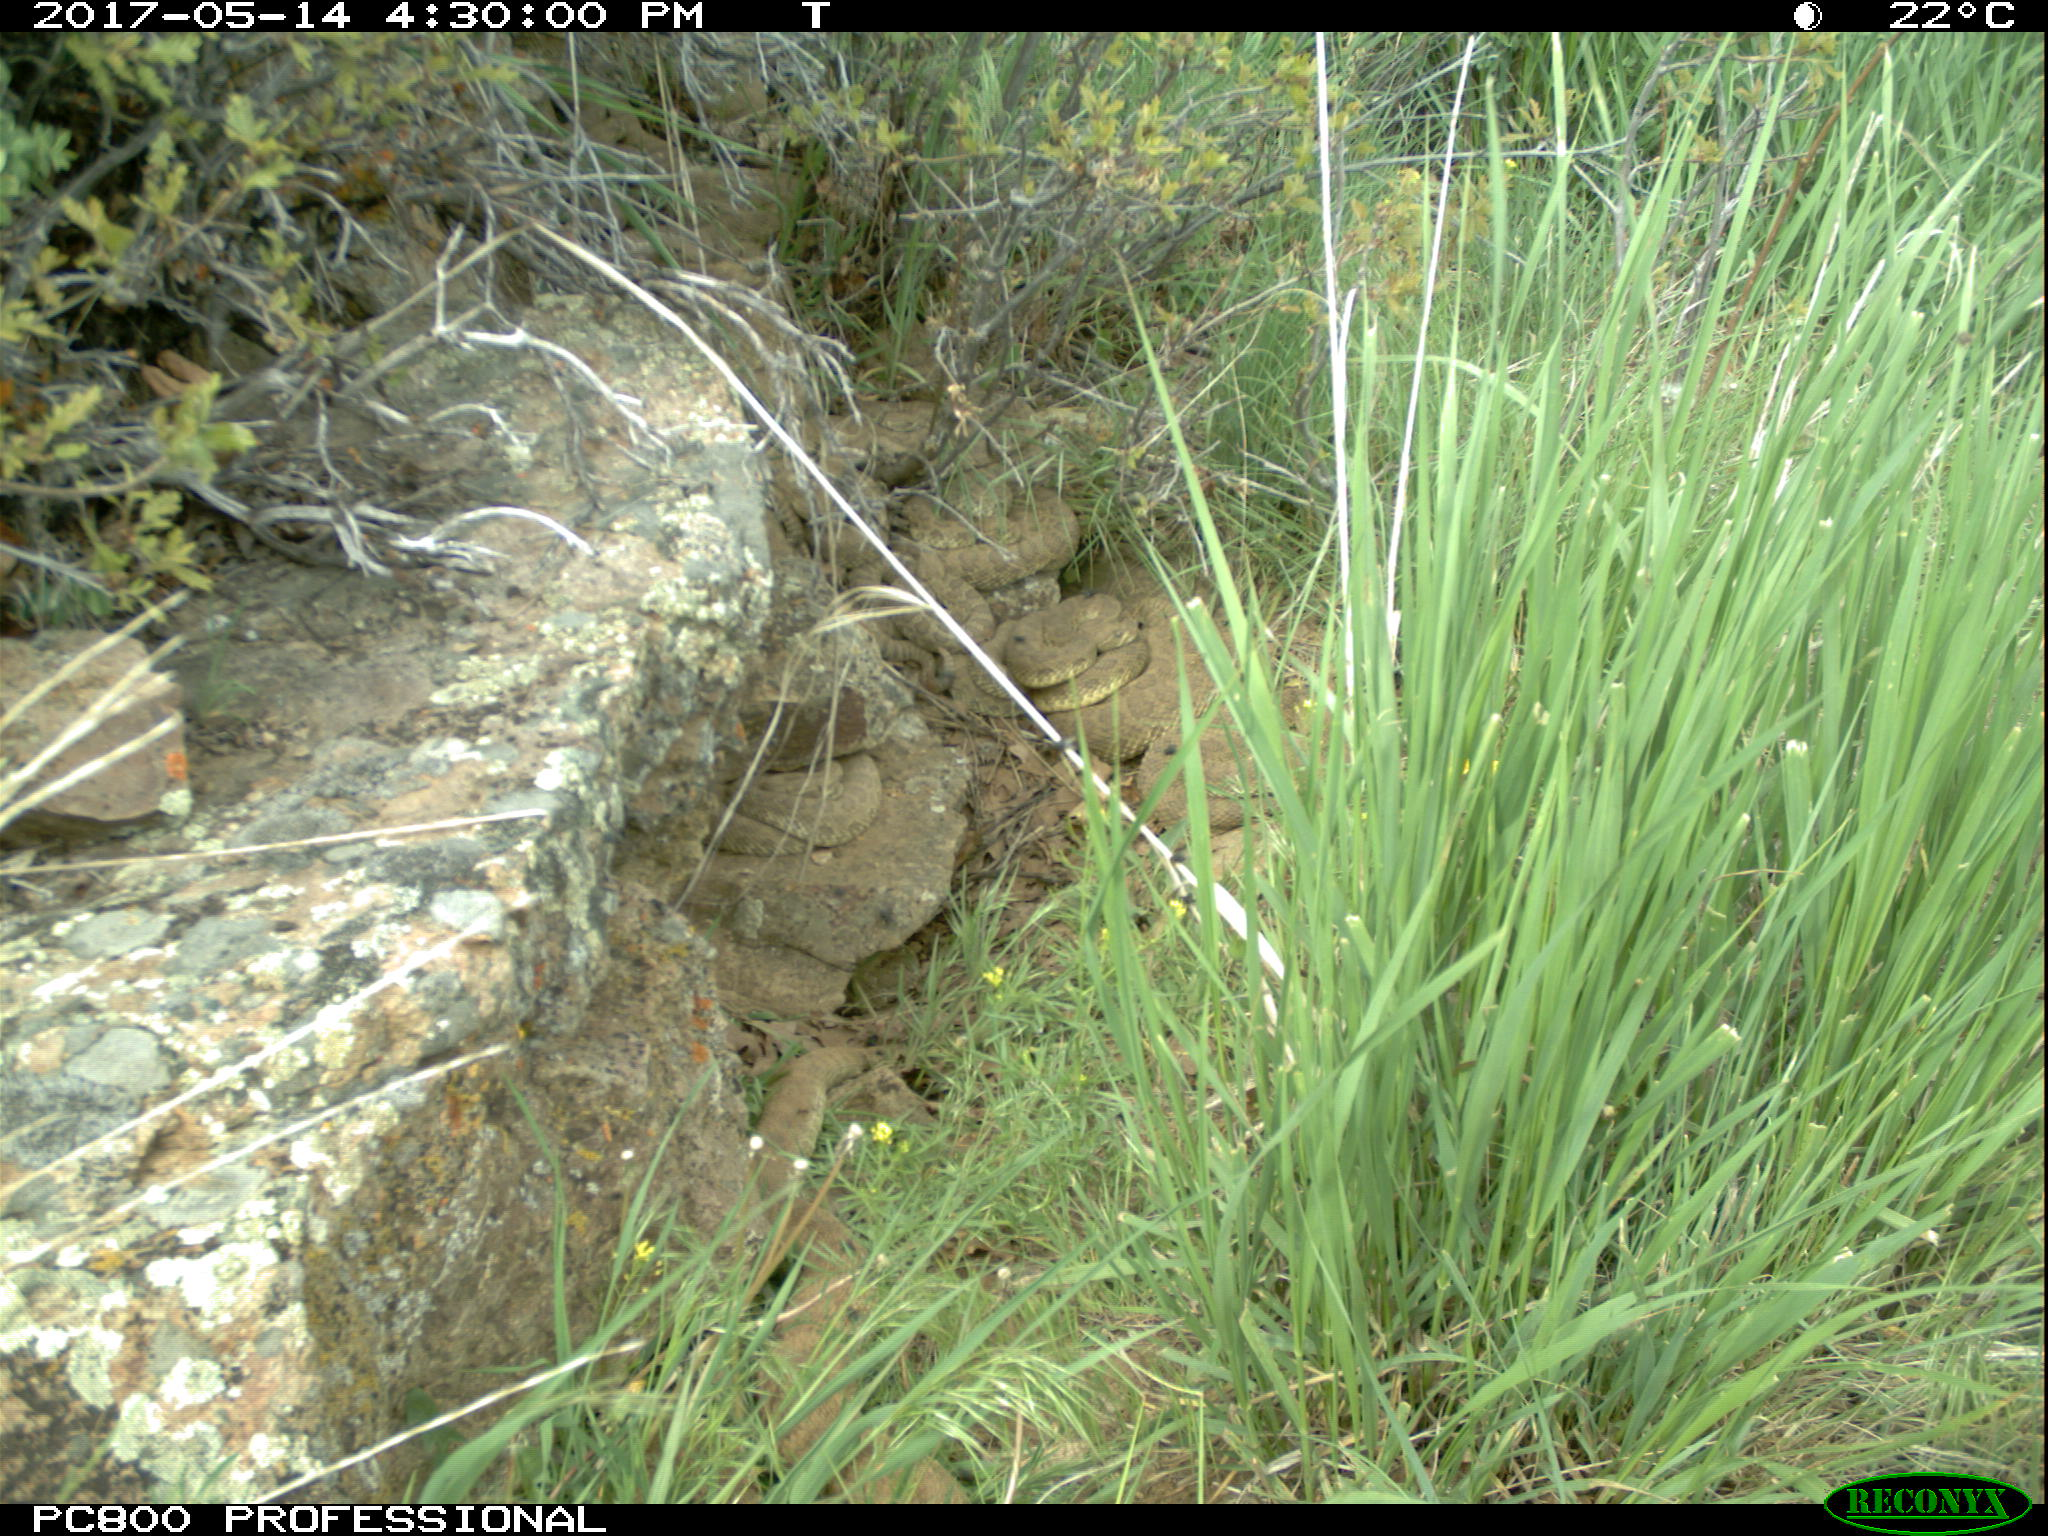snake: (748, 1044, 922, 1499), (963, 592, 1153, 712), (705, 752, 884, 857), (905, 470, 1080, 574), (1066, 645, 1227, 750), (1129, 728, 1295, 821), (769, 470, 898, 578), (887, 560, 1005, 660), (819, 397, 953, 453), (576, 97, 676, 163)
